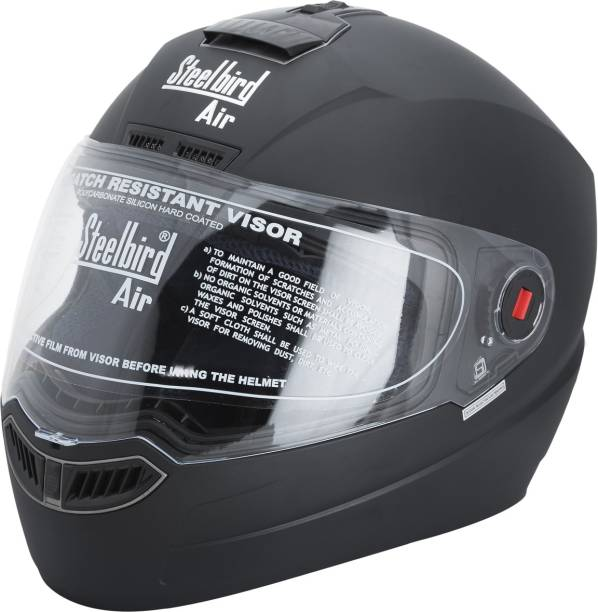with_helmet: (4, 2, 596, 612)
